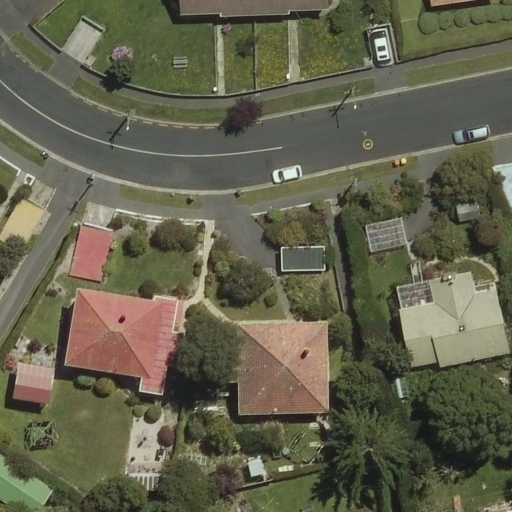DT: (107, 100, 140, 142), (333, 79, 363, 114)
